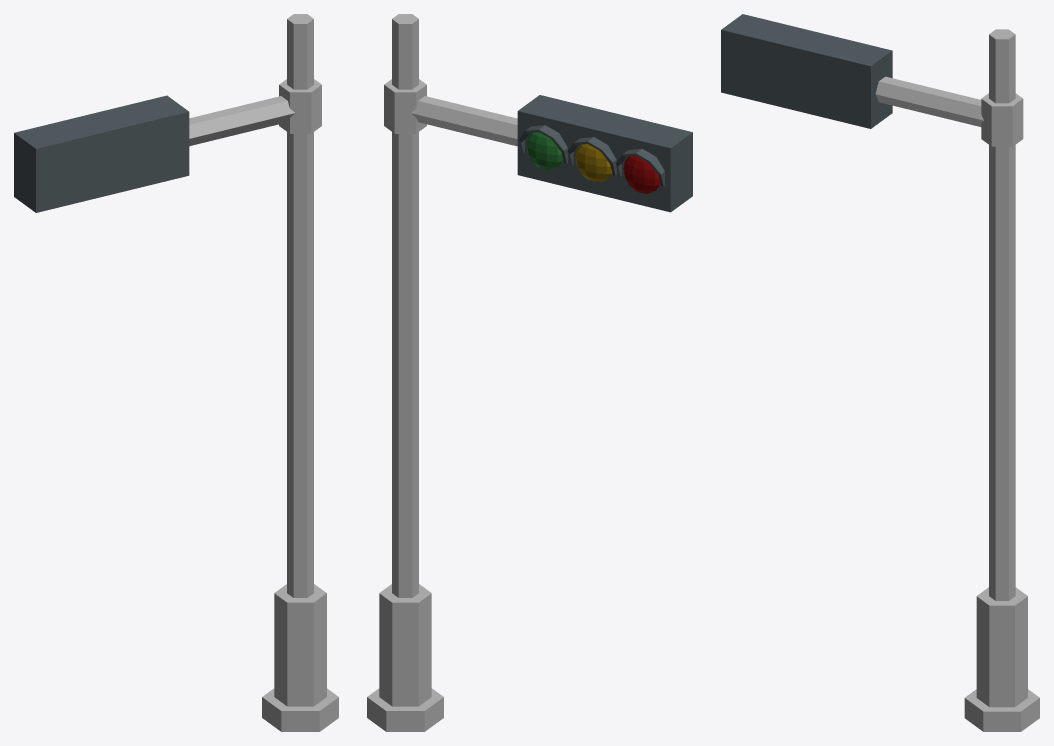
File: destination.gltf
3 views of the same model, side by side, from view 1: azimuth 30°, elevation 25°; view 2: azimuth 150°, elevation 25°; view 3: azimuth 330°, elevation 25° (orthographic). The views are drawn at different scales.
Visible parts, largest first — view 1: Props_Traffic Signal_big; view 2: Props_Traffic Signal_big; view 3: Props_Traffic Signal_big.
Boxes of the visible parts, x1,y1,x2,y2 form: Props_Traffic Signal_big: (14,14,338,731); Props_Traffic Signal_big: (367,14,692,731); Props_Traffic Signal_big: (721,14,1039,731).
Size of the model in its own units: 2.75 by 6.02 by 0.6.
Materials: 1 (1 with a texture image).
